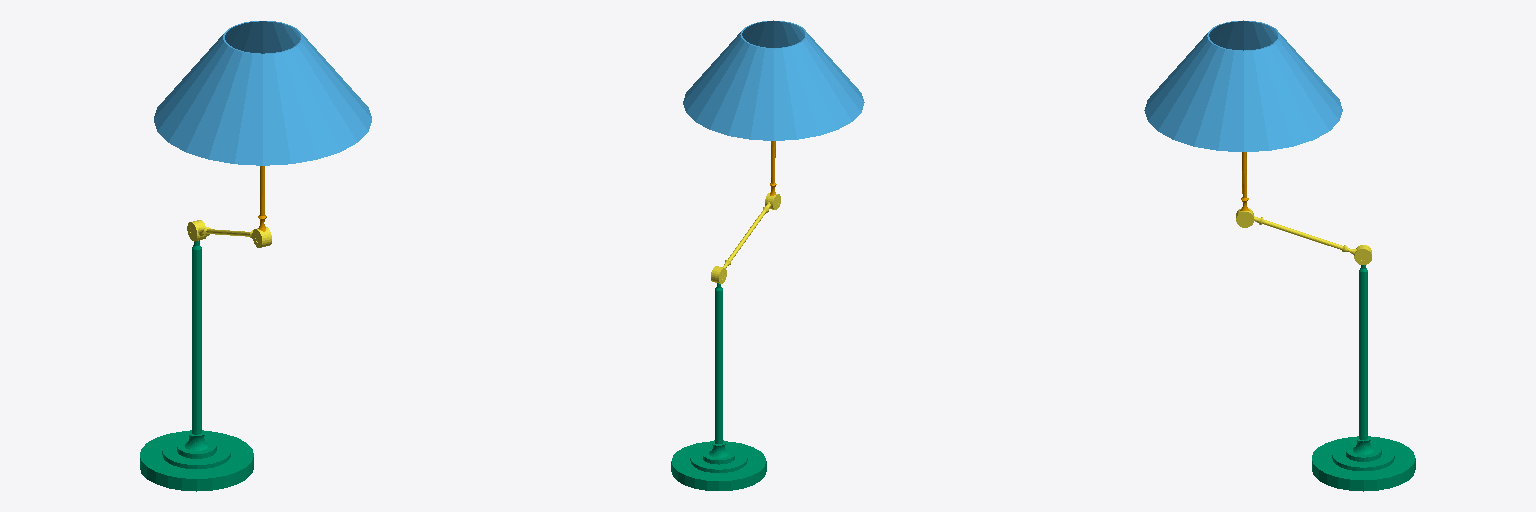
robot.urdf — 14402:
<?xml version="1.0" ?>
<robot name="14402" version="1.0">
  <link name="link_0">
    <inertial>
      <origin rpy="0.0 0.0 0.0" xyz="0.0 0.0 0.0"/>
      <mass value="0.0"/>
      <inertia ixx="0.001" ixy="0.0" ixz="0.0" iyy="0.001" iyz="0.0" izz="0.001"/>
    </inertial>
    <visual name="link_0___1">
      <origin rpy="0.0 0.0 0.0" xyz="0.0 0.10708878402483918 0.09553159894775255"/>
      <geometry>
        <mesh filename="shape/visual/link_0_m1_vm.obj"/>
      </geometry>
    </visual>
    <collision>
      <origin rpy="0.0 0.0 0.0" xyz="0.0 0.10708878402483918 0.09553159894775255"/>
      <geometry>
        <mesh filename="shape/collision/link_0_cm.obj"/>
      </geometry>
    </collision>
  </link>
  <link name="link_1">
    <inertial>
      <origin rpy="0.0 0.0 0.0" xyz="0.0 0.0 0.0"/>
      <mass value="0.0"/>
      <inertia ixx="0.001" ixy="0.0" ixz="0.0" iyy="0.001" iyz="0.0" izz="0.001"/>
    </inertial>
    <visual name="link_1___3">
      <origin rpy="0.0 0.0 0.0" xyz="0.000694675896766978 0.11138200000000001 0.0"/>
      <geometry>
        <mesh filename="shape/visual/link_1_m3_vm.obj"/>
      </geometry>
    </visual>
    <collision>
      <origin rpy="0.0 0.0 0.0" xyz="0.000694675896766978 0.11138200000000001 0.0"/>
      <geometry>
        <mesh filename="shape/collision/link_1_cm.obj"/>
      </geometry>
    </collision>
  </link>
  <link name="base_link">
    <inertial>
      <origin rpy="0.0 0.0 0.0" xyz="0.0 0.0 0.0"/>
      <mass value="0.0"/>
      <inertia ixx="0.001" ixy="0.0" ixz="0.0" iyy="0.001" iyz="0.0" izz="0.001"/>
    </inertial>
    <visual name="link_2___2">
      <origin rpy="0.0 0.0 0.0" xyz="0.0 -0.0 0.0"/>
      <geometry>
        <mesh filename="shape/visual/link_2_m2_vm.obj"/>
      </geometry>
    </visual>
    <visual name="link_2___1">
      <origin rpy="0.0 0.0 0.0" xyz="0.0 -0.0 0.0"/>
      <geometry>
        <mesh filename="shape/visual/link_2_m1_vm.obj"/>
      </geometry>
    </visual>
    <collision>
      <origin rpy="0.0 0.0 0.0" xyz="0.0 -0.0 0.0"/>
      <geometry>
        <mesh filename="shape/collision/link_2_cm.obj"/>
      </geometry>
    </collision>
  </link>
  <link name="link_3">
    <inertial>
      <origin rpy="0.0 0.0 0.0" xyz="0.0 0.0 0.0"/>
      <mass value="0.0"/>
      <inertia ixx="0.001" ixy="0.0" ixz="0.0" iyy="0.001" iyz="0.0" izz="0.001"/>
    </inertial>
    <visual name="link_3___1">
      <origin rpy="0.0 0.0 0.0" xyz="0.0 -0.2426725 0.2173525"/>
      <geometry>
        <mesh filename="shape/visual/link_3_m1_vm.obj"/>
      </geometry>
    </visual>
    <collision>
      <origin rpy="0.0 0.0 0.0" xyz="0.0 -0.2426725 0.2173525"/>
      <geometry>
        <mesh filename="shape/collision/link_3_cm.obj"/>
      </geometry>
    </collision>
  </link>
  <joint name="joint_0" type="revolute">
    <origin rpy="0.0 0.0 0.0" xyz="0.0 -0.3497612840248392 0.12182090105224745"/>
    <axis xyz="1.0 -0.0 0.0"/>
    <parent link="link_3"/>
    <child link="link_0"/>
    <limit lower="-0.7853981633974483" upper="0.7853981633974483"/>
  </joint>
  <joint name="joint_1" type="continuous">
    <origin rpy="0.0 0.0 0.0" xyz="-0.000694675896766978 -0.00429321597516083 0.09553159894775255"/>
    <axis xyz="0.0 -0.0 1.0"/>
    <parent link="link_0"/>
    <child link="link_1"/>
  </joint>
  <joint name="joint_3" type="revolute">
    <origin rpy="0.0 0.0 0.0" xyz="0.0 0.2426725 -0.2173525"/>
    <axis xyz="1.0 -0.0 0.0"/>
    <parent link="base_link"/>
    <child link="link_3"/>
    <limit lower="-0.7853981633974483" upper="0.7853981633974483"/>
  </joint>
</robot>

--- Render facts (derived) ---
The picture shows the robot from 3 angles, left to right: view 1: azimuth 30°, elevation 25°; view 2: azimuth 150°, elevation 25°; view 3: azimuth 270°, elevation 25°; orthographic projection.
Robot: 14402 — 4 links, 3 joints (2 revolute, 1 continuous); root link base_link; default pose: every joint at zero.
Links seen in each view (by area): view 1: link_1, base_link, link_3; view 2: link_1, base_link, link_3; view 3: link_1, base_link, link_3.
Link boxes in pixels (left/top/right/bottom): link_1: left=154, top=21, right=371, bottom=165; base_link: left=140, top=240, right=253, bottom=491; link_3: left=187, top=220, right=271, bottom=247; link_1: left=683, top=20, right=864, bottom=140; base_link: left=671, top=283, right=766, bottom=490; link_3: left=711, top=192, right=780, bottom=283; link_1: left=1144, top=20, right=1342, bottom=151; base_link: left=1312, top=265, right=1415, bottom=491; link_3: left=1236, top=208, right=1371, bottom=264.
Size in the robot's own frame: 0.5877 by 0.8025 by 1.42 metres.
5 mesh visuals loaded from 5 distinct referenced files (5 OBJ).